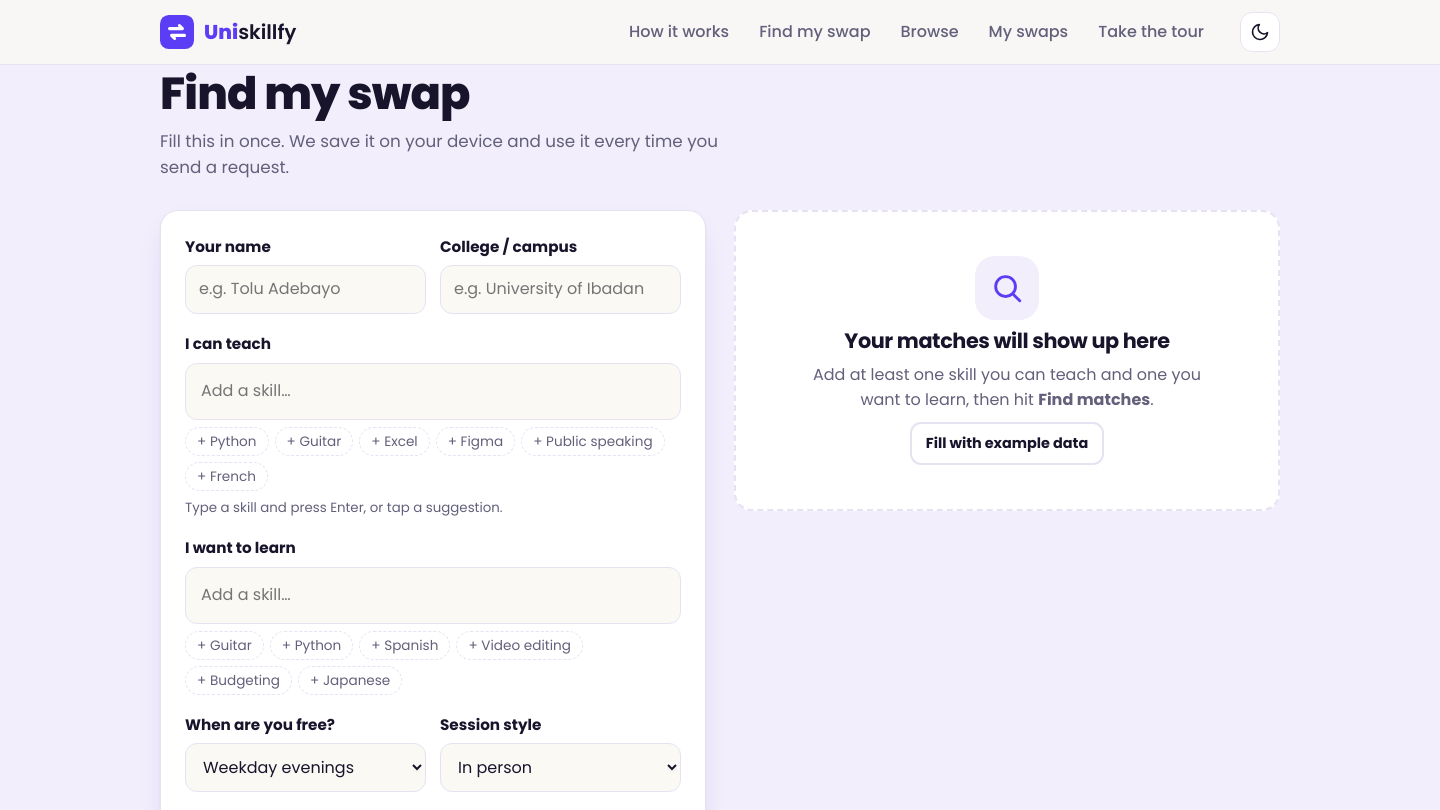
Test: app flow › shows a toast and reached state when a goal is completed
(page scrolled)
Click the button "Fill with example data": (1007, 443) [910,422,1104,465]
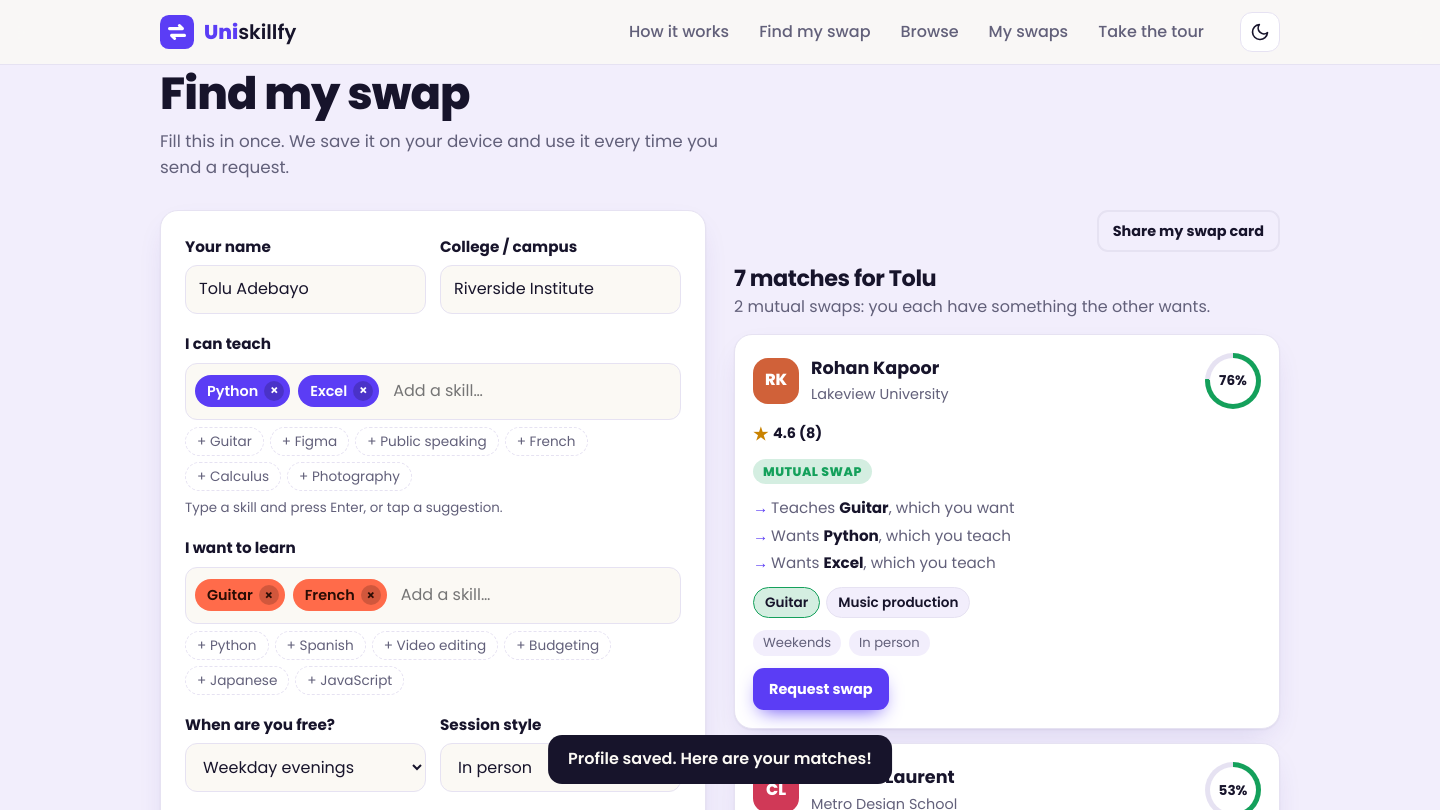
Click the button "Request swap": (821, 689) [753,668,888,710]
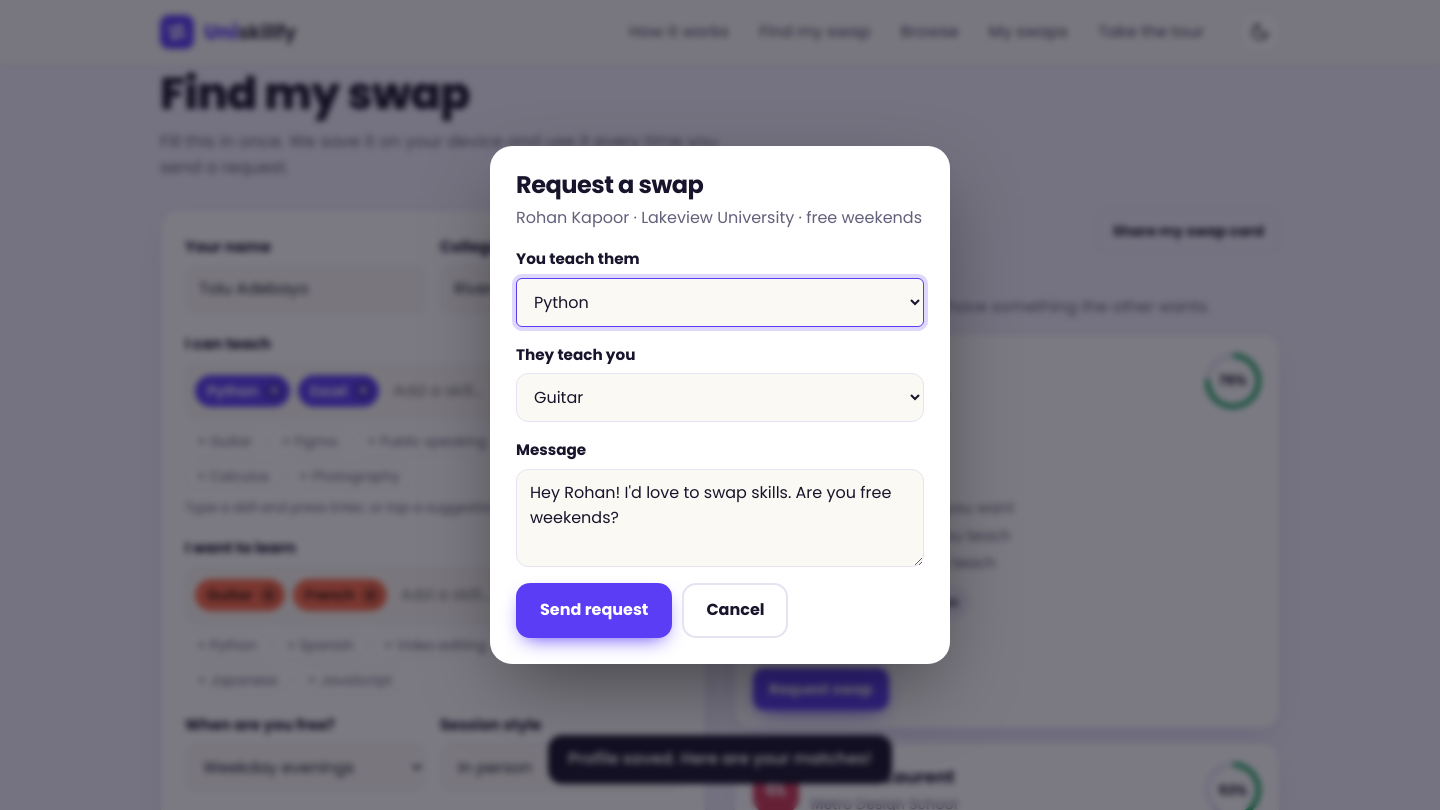
Click the button "Send request": (594, 611) [516,583,672,638]
(page scrolled)
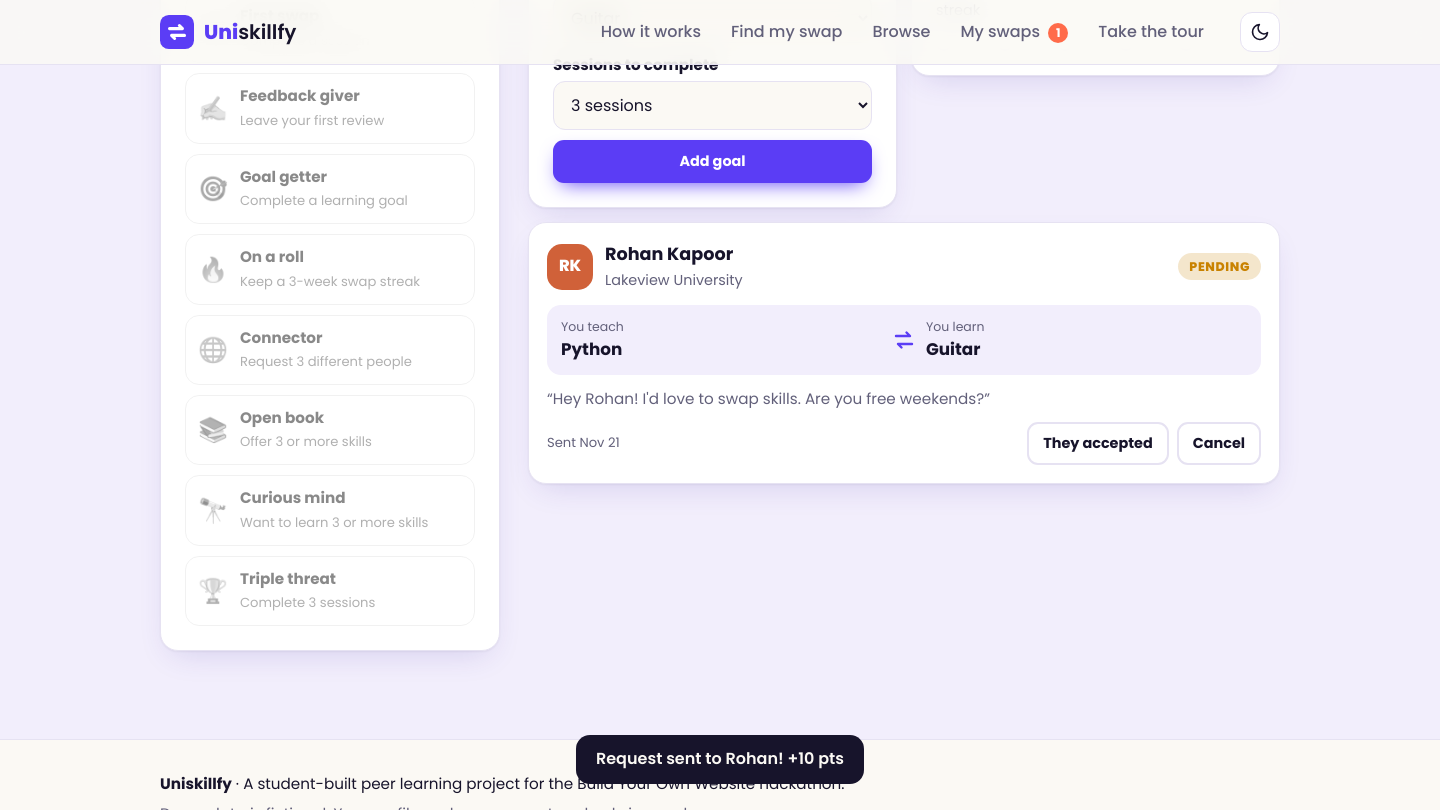
Click the button "They accepted": (1098, 444) [1027,422,1169,465]
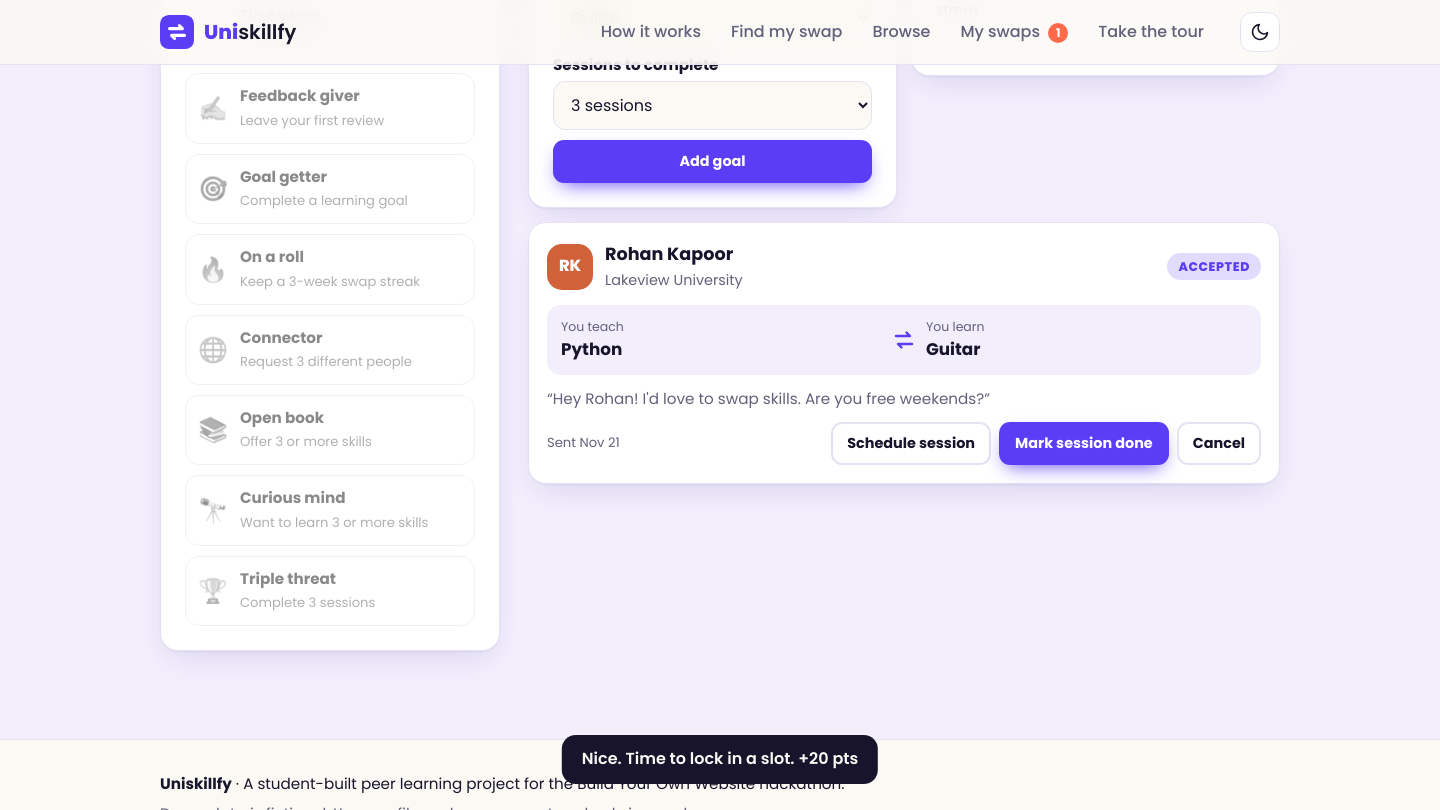
Select "1 session" in the dropdown named "Goal target": (712, 106) [553,81,872,130]
Click the button "Add goal": (712, 161) [553,140,872,183]
(page scrolled)
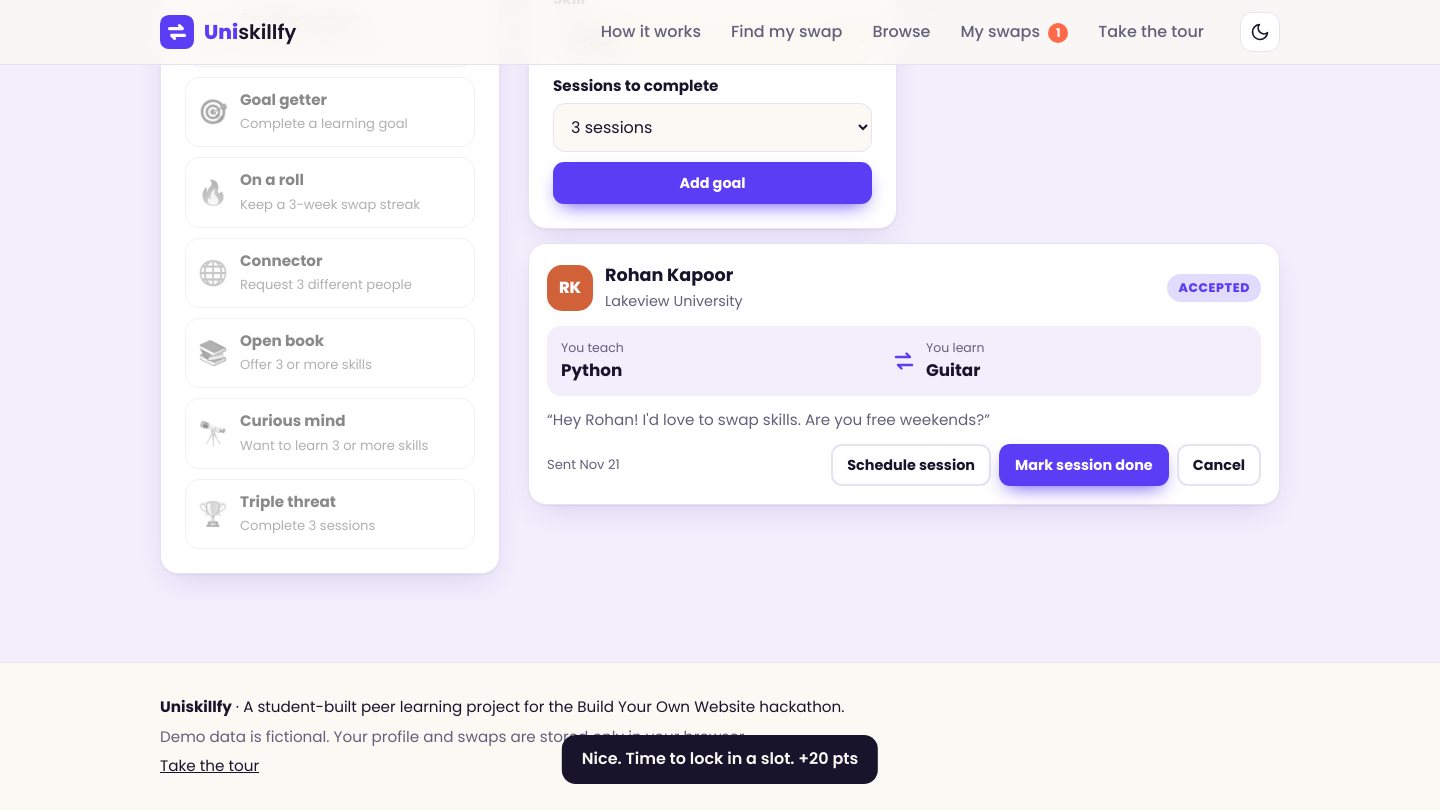
Click the button "Mark session done": (1084, 465) [999,444,1169,486]
(page scrolled)
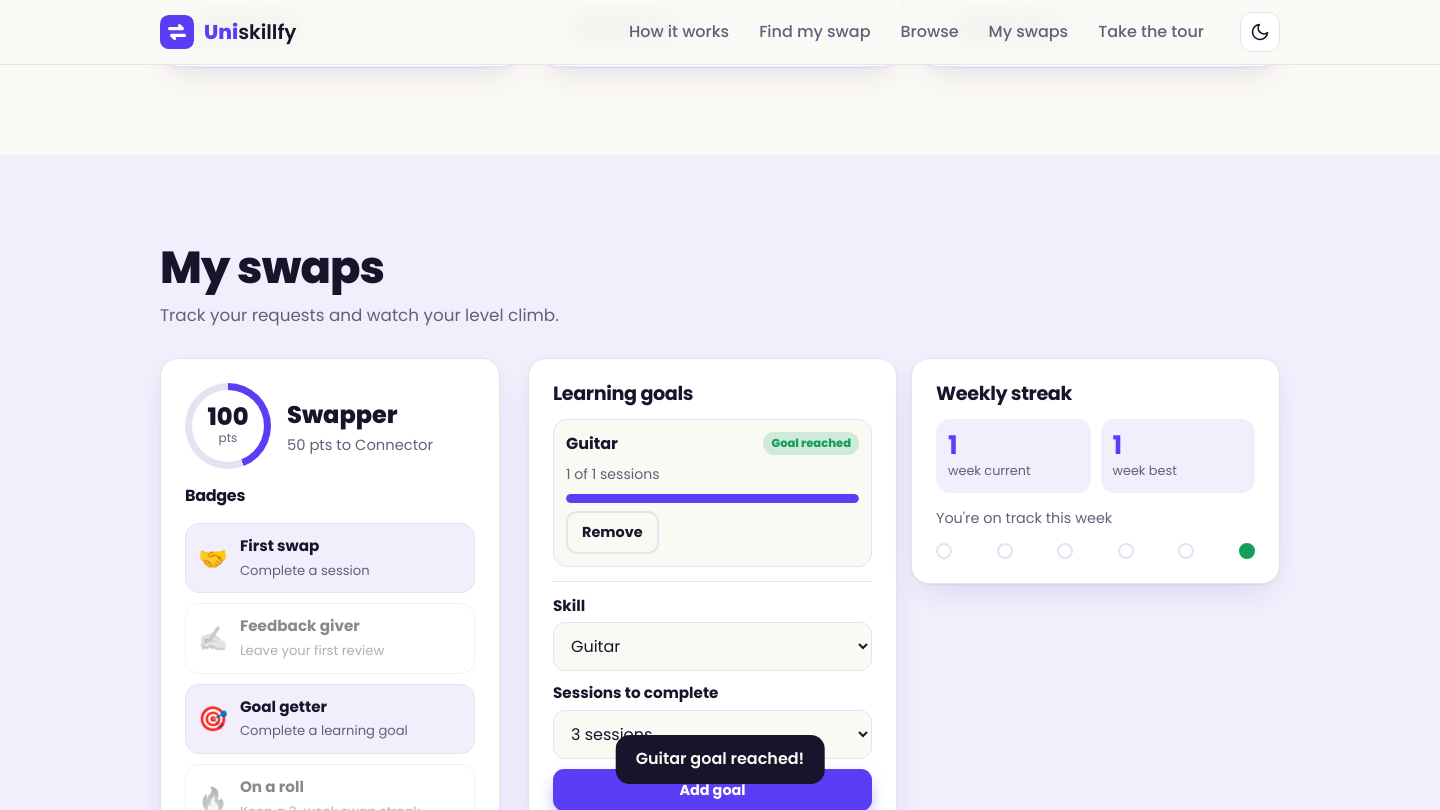
expect the text "Guitar goal reached!" is shown: met, box [616,735,824,784]
expect the text "Goal reached" is shown: met, box [764,432,859,455]
